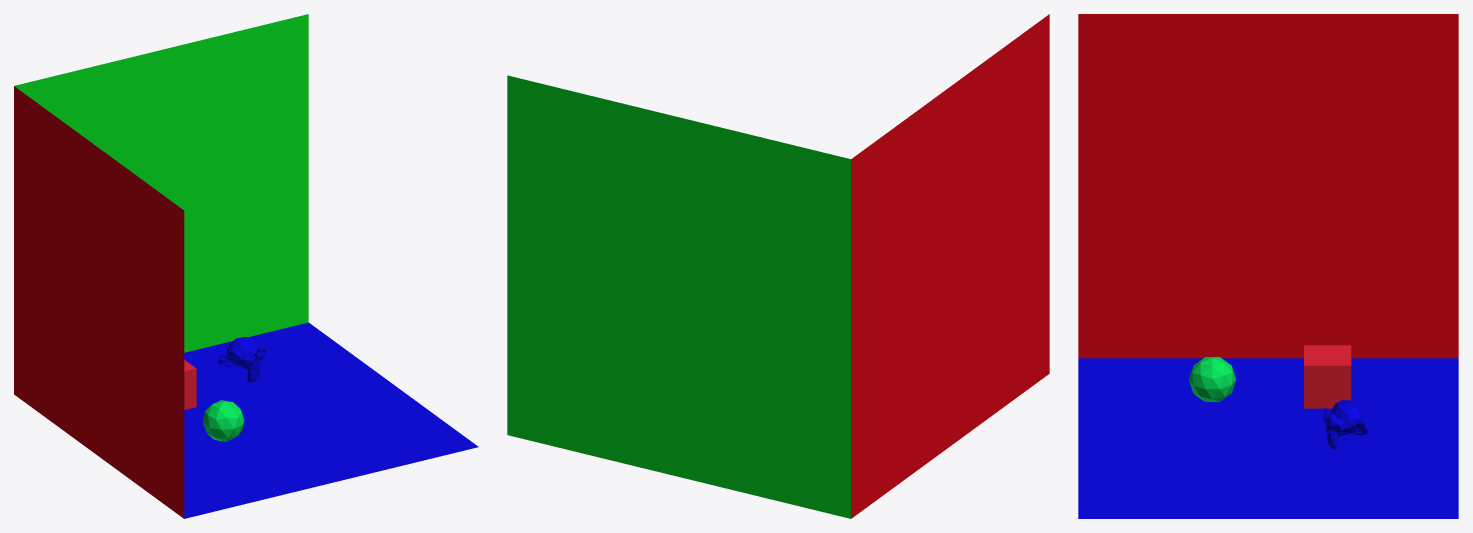
File: TestScene.gltf
The picture shows the model from 3 angles, left to right: view 1: azimuth 30°, elevation 25°; view 2: azimuth 150°, elevation 25°; view 3: azimuth 270°, elevation 25°; orthographic projection. The views are drawn at different scales.
Parts seen in each view (by area): view 1: Plane.002, Plane.001, Plane, Icosphere, Suzanne, Cube; view 2: Plane.001, Plane.002; view 3: Plane.002, Plane, Cube, Icosphere, Suzanne.
Boxes of the visible parts, left/top/right/bottom form: Plane.002: left=14, top=86, right=184, bottom=518; Plane.001: left=14, top=14, right=308, bottom=352; Plane: left=184, top=322, right=478, bottom=518; Icosphere: left=203, top=400, right=244, bottom=441; Suzanne: left=218, top=337, right=266, bottom=382; Cube: left=184, top=360, right=196, bottom=409; Plane.001: left=507, top=75, right=850, bottom=518; Plane.002: left=851, top=14, right=1049, bottom=518; Plane.002: left=1078, top=14, right=1458, bottom=358; Plane: left=1078, top=358, right=1458, bottom=518; Cube: left=1304, top=345, right=1351, bottom=408; Icosphere: left=1189, top=357, right=1236, bottom=401; Suzanne: left=1323, top=400, right=1367, bottom=449.
Bounding box in the file's own units: 16 × 16 × 16.
